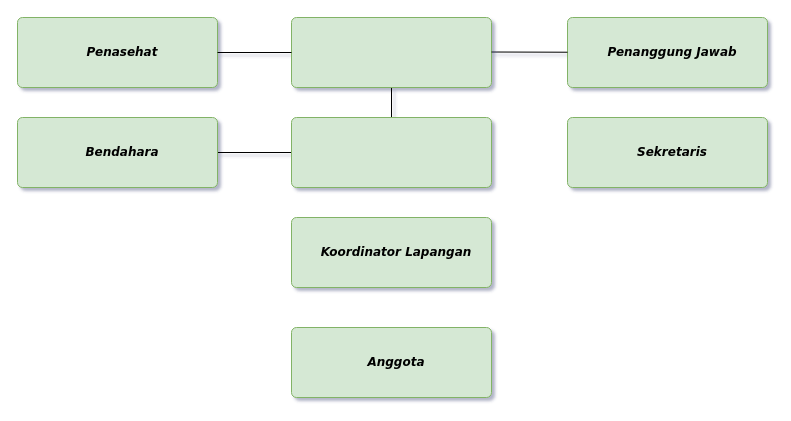
This 791x421 diagram has some shape labels left out. Here are the shapes that lost their labels. From the top down, the box of each, then its label:
(290, 16, 492, 88): Ketua
(290, 116, 492, 188): Wakil Ketua
